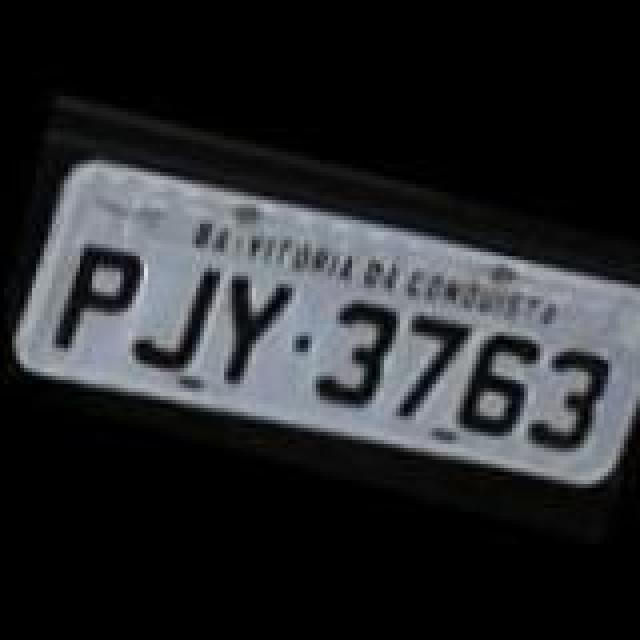3: (514, 332, 610, 460), (302, 280, 394, 412)
6: (446, 316, 534, 444)
7: (378, 296, 466, 428)
J: (122, 244, 222, 376)
P: (42, 226, 142, 366)
Y: (200, 256, 288, 392)
